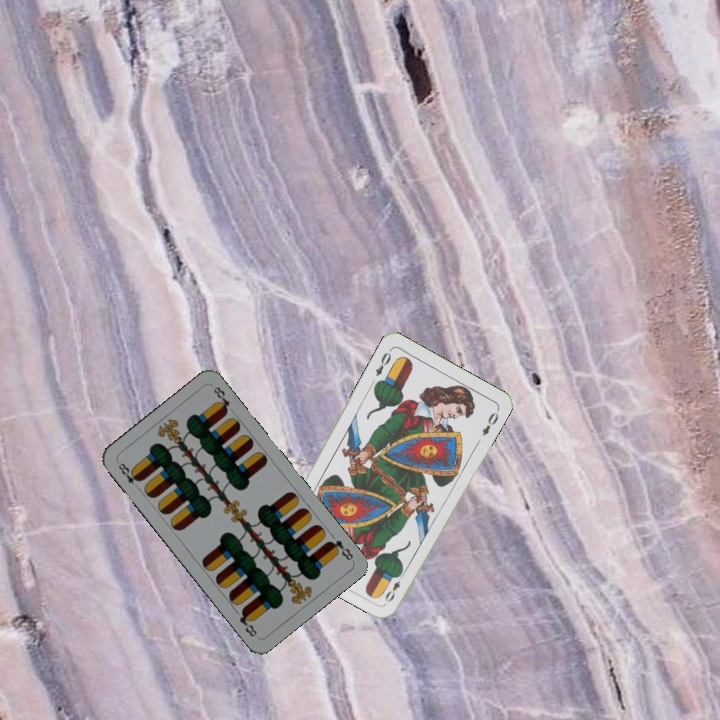E8: (113, 458, 144, 493), (323, 536, 356, 563)
EO: (381, 568, 406, 605), (371, 348, 394, 379)
